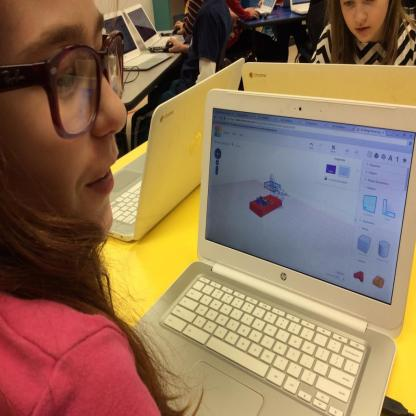board: (136, 86, 414, 414), (106, 57, 246, 243), (241, 62, 416, 107), (103, 10, 174, 72), (124, 3, 178, 48), (254, 0, 277, 16), (290, 0, 310, 15)
